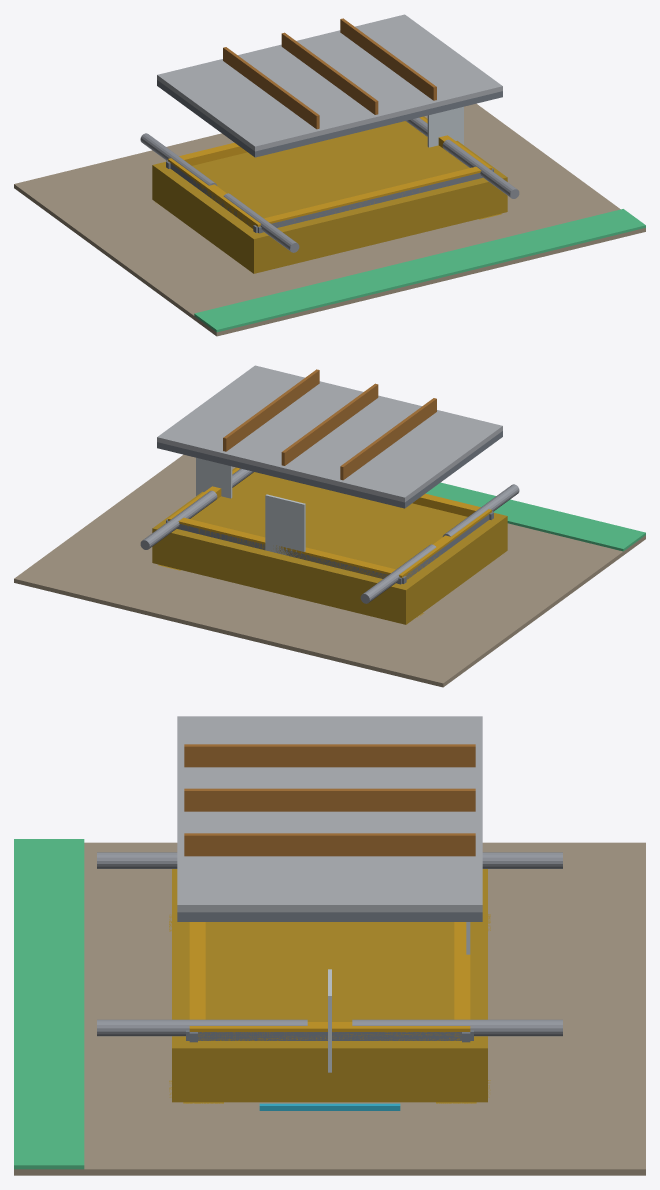
Rendered from stage_11_finishing.glb.
The picture shows the model from 3 angles, top to bottom: view 1: azimuth 30°, elevation 25°; view 2: azimuth 150°, elevation 25°; view 3: azimuth 270°, elevation 25°; orthographic projection. The views are drawn at different scales.
Parts seen in each view (by area): view 1: world; view 2: world; view 3: world.
Part boxes in pixels (x1,y1,x2,y2): world: [14, 14, 645, 336]; world: [14, 365, 645, 687]; world: [14, 716, 645, 1175].
Size of the model in its own units: 11 by 4.2 by 9.
